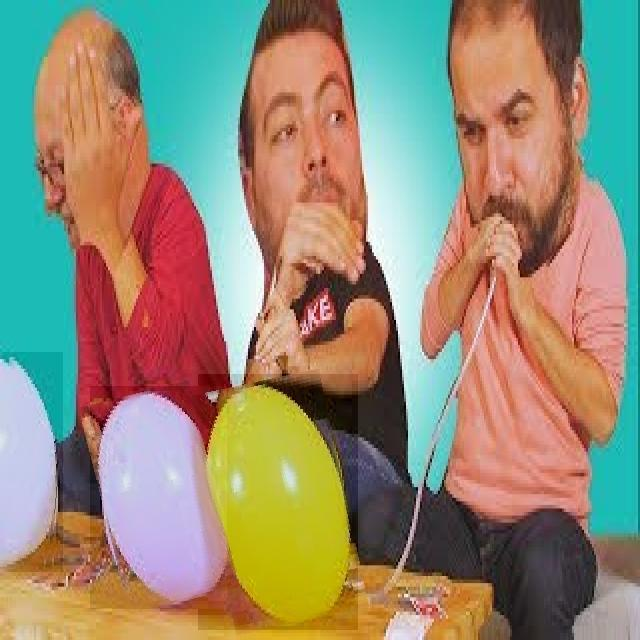balloon: (198, 374, 358, 630), (90, 386, 227, 609), (0, 352, 63, 572)
